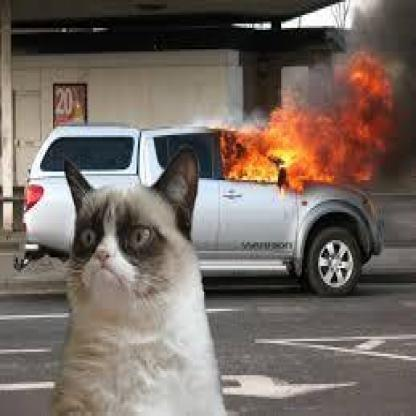fire: (223, 47, 395, 195)
